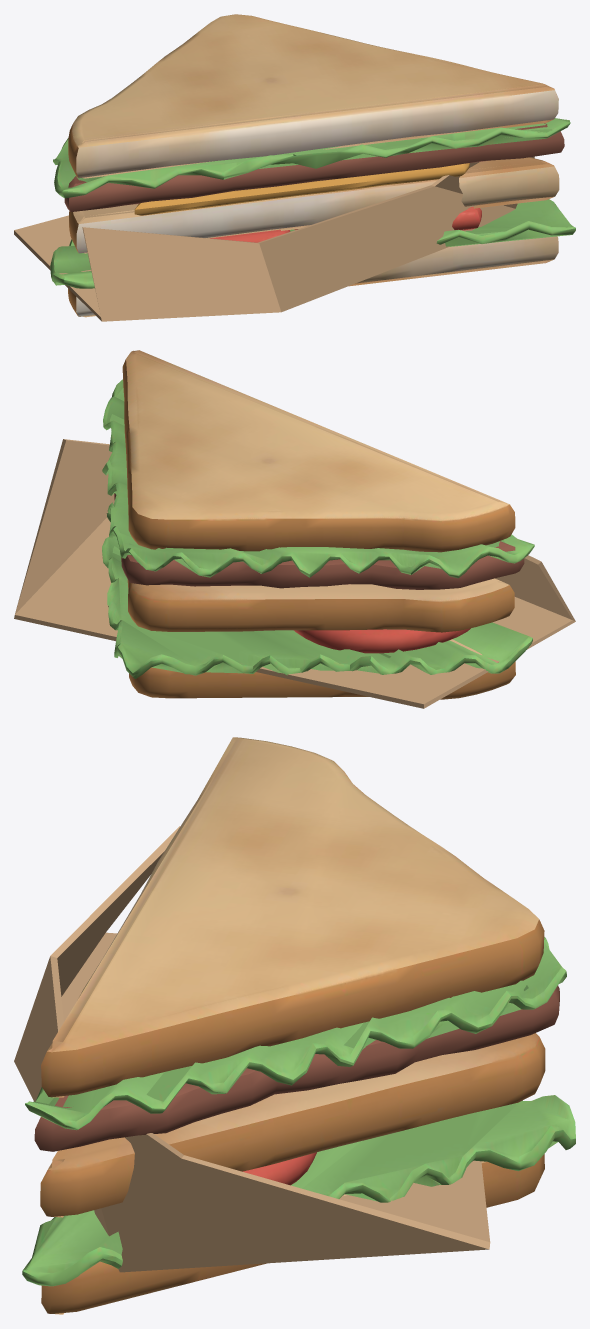
The model's file is picnic_sandwich.glb.
3 renders of one model, top to bottom at view 1: azimuth 30°, elevation 25°; view 2: azimuth 150°, elevation 25°; view 3: azimuth 270°, elevation 25°, orthographic. The views are drawn at different scales.
Visible parts, largest first — view 1: Vegan sandwich, Kraft sleeve; view 2: Vegan sandwich, Kraft sleeve; view 3: Vegan sandwich, Kraft sleeve.
Part boxes in pixels (box(x1,y1,x2,y2)): Vegan sandwich: box(50, 14, 575, 317); Kraft sleeve: box(14, 156, 534, 321); Vegan sandwich: box(102, 350, 534, 699); Kraft sleeve: box(14, 439, 575, 708); Vegan sandwich: box(22, 737, 575, 1314); Kraft sleeve: box(14, 826, 490, 1272).
Bounding box in the file's own units: 0.134 × 0.049 × 0.0915.
4 materials, 1 textured.
